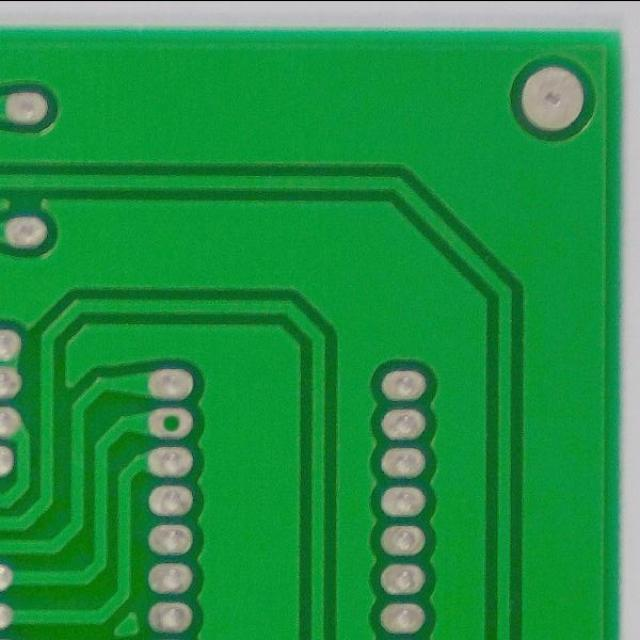missing_hole: (145, 402, 198, 443)
